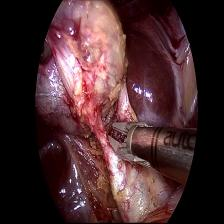Clipper: (106, 116, 158, 171)
